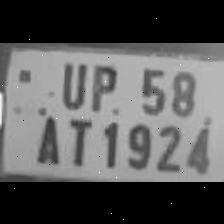1: (94, 113, 120, 169)
2: (151, 119, 181, 173)
4: (182, 118, 212, 174)
5: (134, 63, 166, 113)
8: (167, 64, 197, 116)
9: (123, 115, 151, 169)
A: (29, 106, 62, 166)
P: (88, 59, 120, 111)
T: (61, 112, 94, 166)
U: (54, 58, 88, 108)
